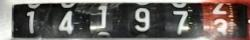digits: (58, 10, 75, 36), (172, 10, 190, 34), (133, 7, 150, 31), (213, 17, 228, 38), (98, 4, 109, 30), (26, 10, 36, 34)
